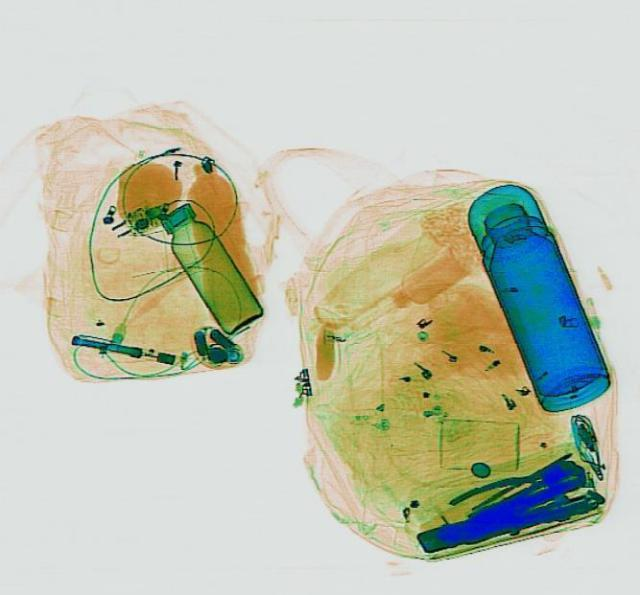Pliers: (444, 472, 598, 552), (445, 451, 581, 520)
